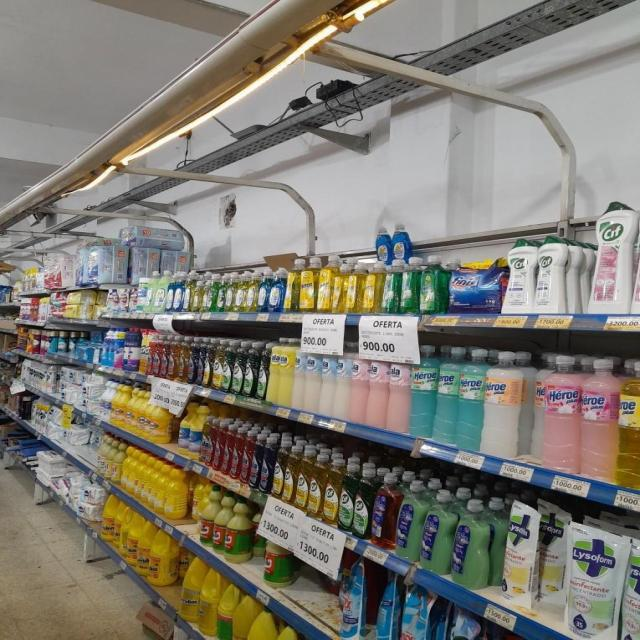ala_conc_amarillo: (186, 336, 195, 384), (177, 336, 186, 382), (171, 336, 178, 382)
ala_conc_azul: (260, 431, 272, 496)
ala_conc_rojo: (240, 426, 250, 486), (151, 334, 160, 378), (156, 336, 164, 378), (161, 336, 168, 380)
ala_crem_amarillo: (279, 337, 292, 407), (269, 338, 280, 404)
ala_crem_blanco: (334, 341, 350, 420), (304, 342, 320, 414), (320, 344, 334, 416), (292, 338, 305, 412)
ala_crem_rosado: (388, 347, 410, 434), (367, 346, 388, 429), (350, 345, 368, 425)
cif_conc_bot_amarilla: (324, 450, 339, 526), (309, 447, 323, 519), (296, 444, 309, 512), (283, 442, 296, 504), (272, 436, 284, 500), (212, 338, 223, 391), (203, 337, 212, 388)
cif_conc_botella_verde: (354, 463, 371, 540), (340, 460, 354, 532), (257, 340, 268, 400), (244, 341, 255, 398), (232, 340, 243, 395), (222, 339, 231, 392)
heroe: (536, 353, 580, 473), (484, 350, 528, 458), (580, 358, 618, 482), (456, 346, 484, 452), (618, 358, 640, 489), (410, 345, 435, 439), (435, 347, 458, 445)
magistral_con_amarillo: (235, 271, 246, 313), (247, 269, 257, 313), (192, 271, 202, 313)
magistral_con_azul: (270, 266, 283, 312), (258, 268, 269, 312), (174, 272, 183, 312)
